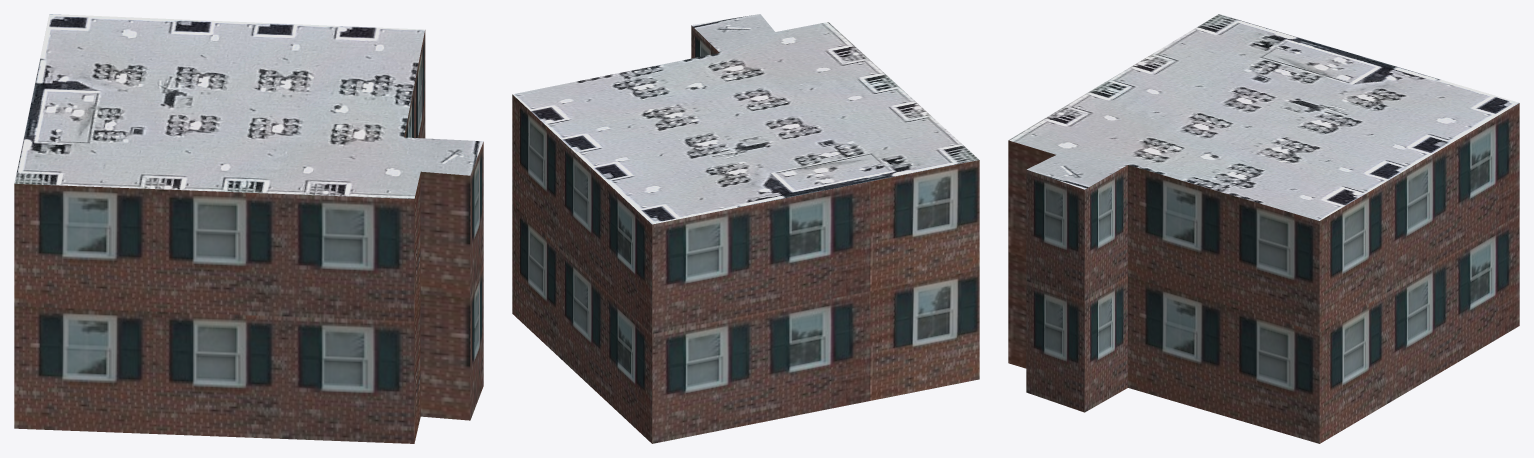
The model's file is ResTex__4711.fbx.
3 renders of one model, left to right at view 1: azimuth 30°, elevation 25°; view 2: azimuth 150°, elevation 25°; view 3: azimuth 270°, elevation 25°, orthographic. The views are drawn at different scales.
Visible parts, largest first — view 1: CityEngineMaterial_14_m, CityEngineMaterial_4_m; view 2: CityEngineMaterial_14_m, CityEngineMaterial_4_m; view 3: CityEngineMaterial_14_m, CityEngineMaterial_4_m.
Boxes of the visible parts, left/top/right/bottom form: CityEngineMaterial_14_m: left=14, top=30, right=483, bottom=443; CityEngineMaterial_4_m: left=14, top=14, right=483, bottom=198; CityEngineMaterial_14_m: left=512, top=25, right=979, bottom=443; CityEngineMaterial_4_m: left=513, top=14, right=978, bottom=224; CityEngineMaterial_14_m: left=1008, top=103, right=1519, bottom=443; CityEngineMaterial_4_m: left=1008, top=14, right=1518, bottom=220.
Size of the model in its own units: 11.95 by 6 by 12.48.
Materials: 2 (2 with a texture image).
